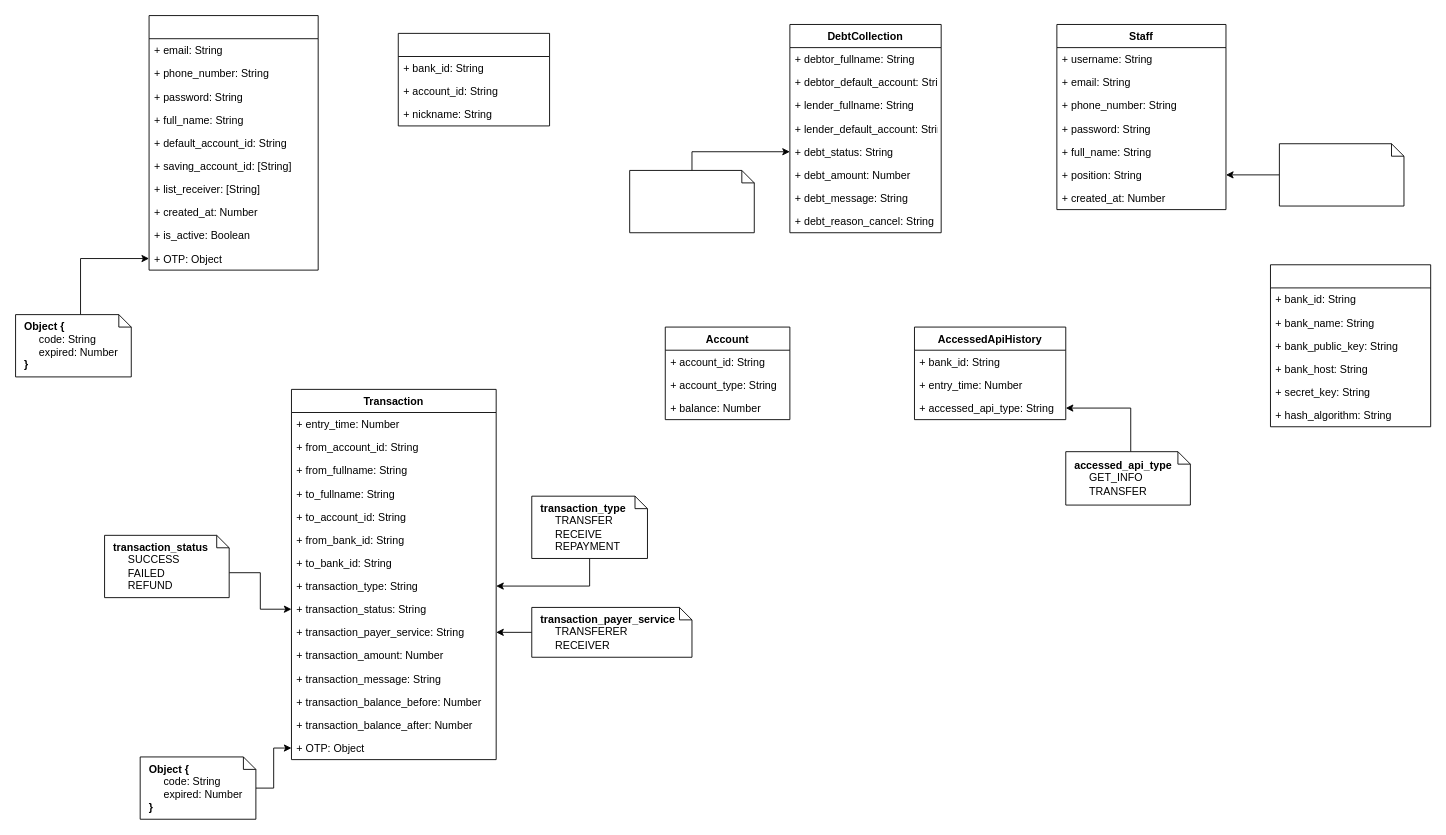
This 1446x835 diagram has some shape labels left out. Here are the shapes that lost their labels. From the top down, the box of each, then its label:
(397, 32, 550, 126): Receiver
(148, 15, 318, 270): Customer
(1278, 143, 1404, 206): position EMPLOYEE ADMINISTRATOR
(629, 170, 754, 233): debt_status COLLECTING PAID CANCELLED
(1270, 264, 1431, 427): LinkedBank
